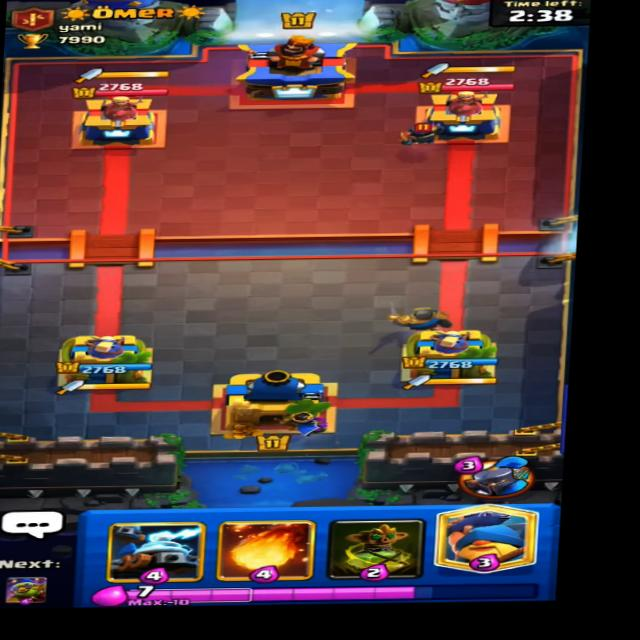mini-pekka: (398, 118, 449, 147)
